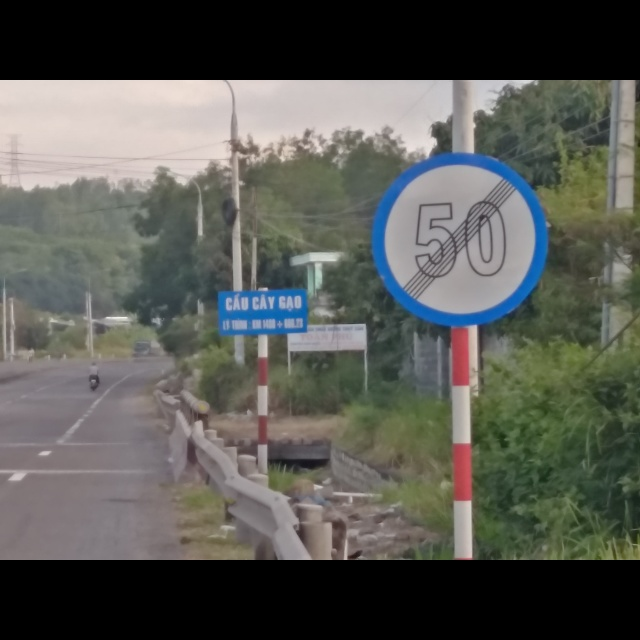Hết hạn chế tốc độ tối đa 50km/h: (371, 150, 550, 324)
